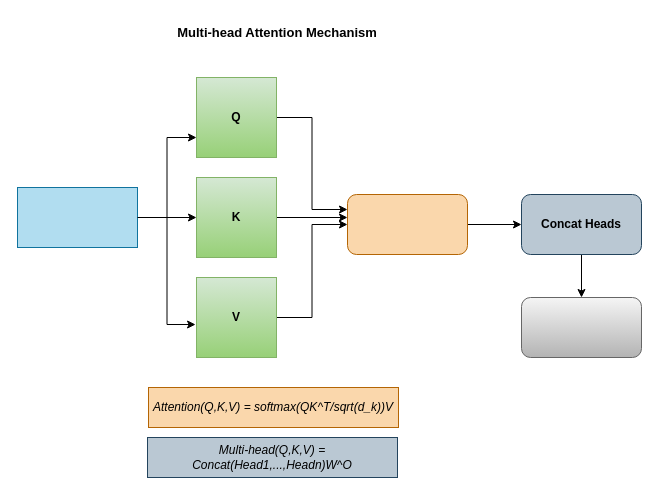
Some shapes in this 659 by 495 pixel diagram are drawn without their labels. The centre of each missing label's shape, as x and y in pixels:
"Attention Computation" goes at (407,224).
"Input Features" goes at (77,217).
"Output" goes at (581,327).
